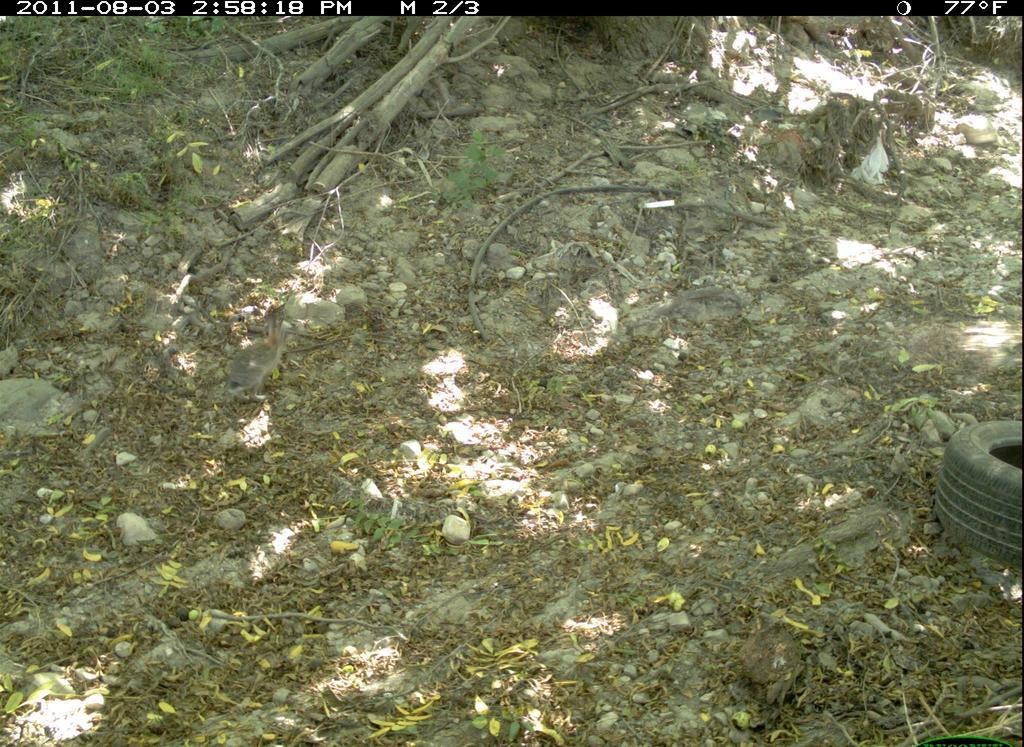rabbit: (211, 303, 310, 415)
